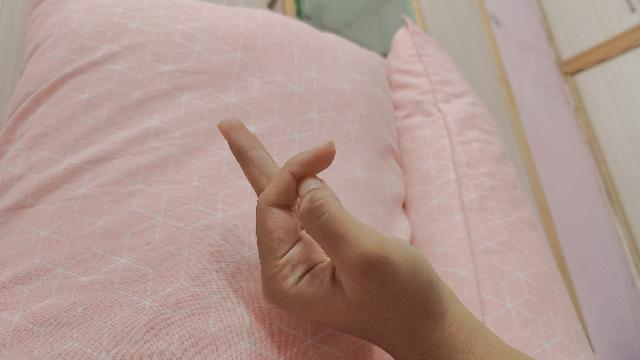aral: (219, 120, 536, 360)
